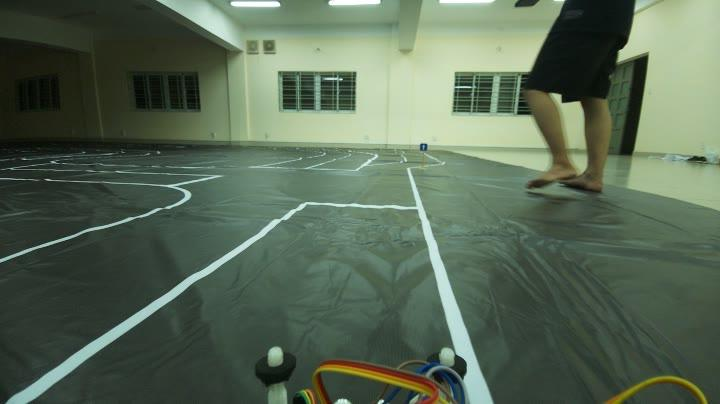onewayroad: (419, 140, 430, 156)
